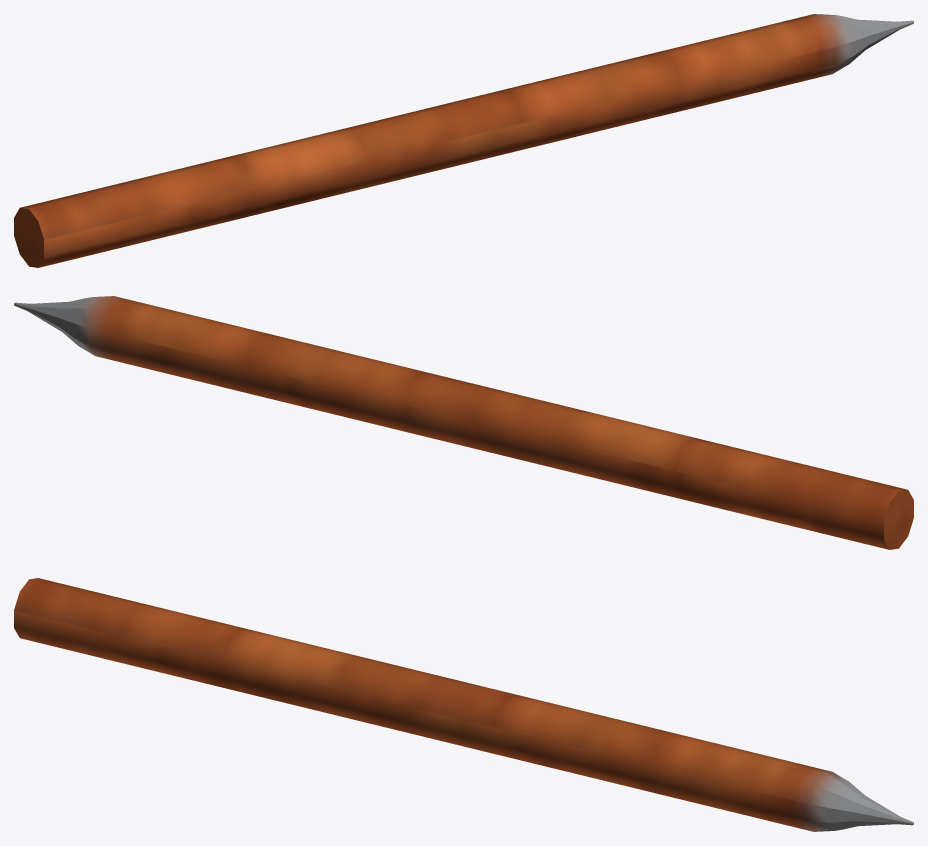
File: thing_1.fbx
3 renders of one model, top to bottom at view 1: azimuth 30°, elevation 25°; view 2: azimuth 150°, elevation 25°; view 3: azimuth 330°, elevation 25°, orthographic.
Visible parts, largest first — view 1: thing_1; view 2: thing_1; view 3: thing_1.
Boxes of the visible parts, x1,y1,x2,y2 form: thing_1: [14, 14, 913, 267]; thing_1: [14, 296, 913, 549]; thing_1: [14, 578, 913, 831].
Size of the model in its own units: 25.62 by 1.59 by 1.51.
